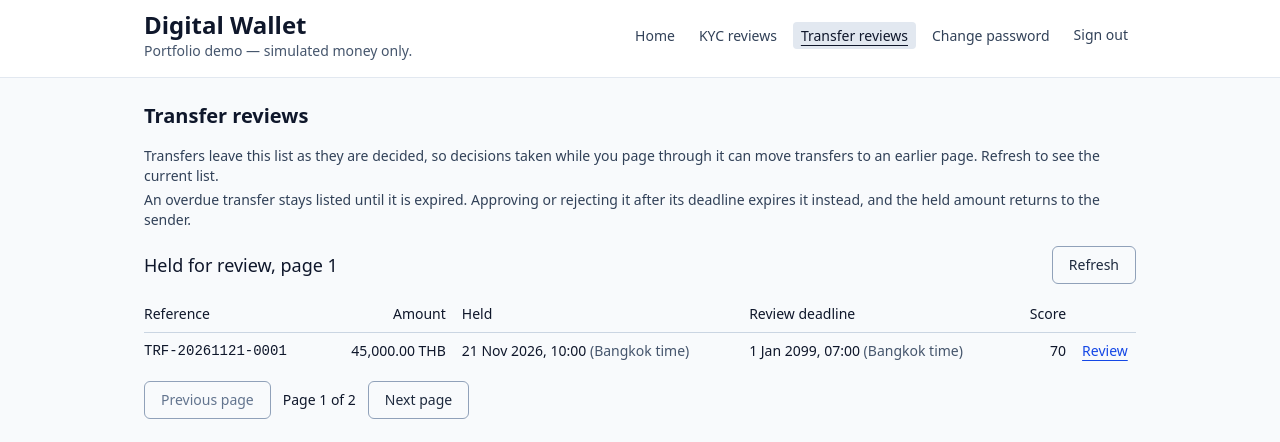
Test: Transfer review queue › pages through ?page= (1-based in the URL, 0-based to the API) and focuses the new page
Expected: the text "Page 1 of 2" is shown, [283,390,356,410]
Click the button "Next page": (418,400) [368,381,469,419]
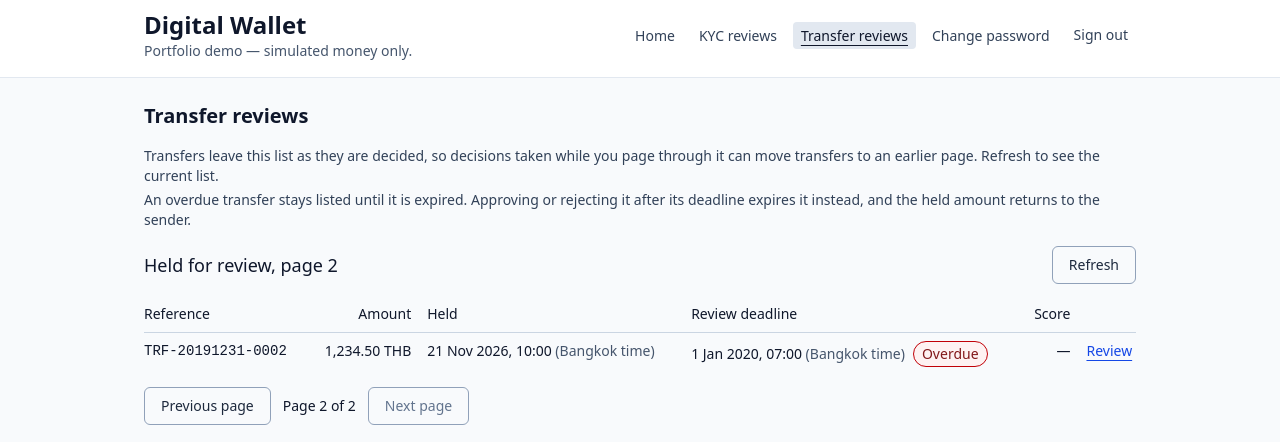
Now the text "TRF-20191231-0002" is shown, box [144,333,316,375]
Click the button "Previous page": (207,406) [144,387,271,425]
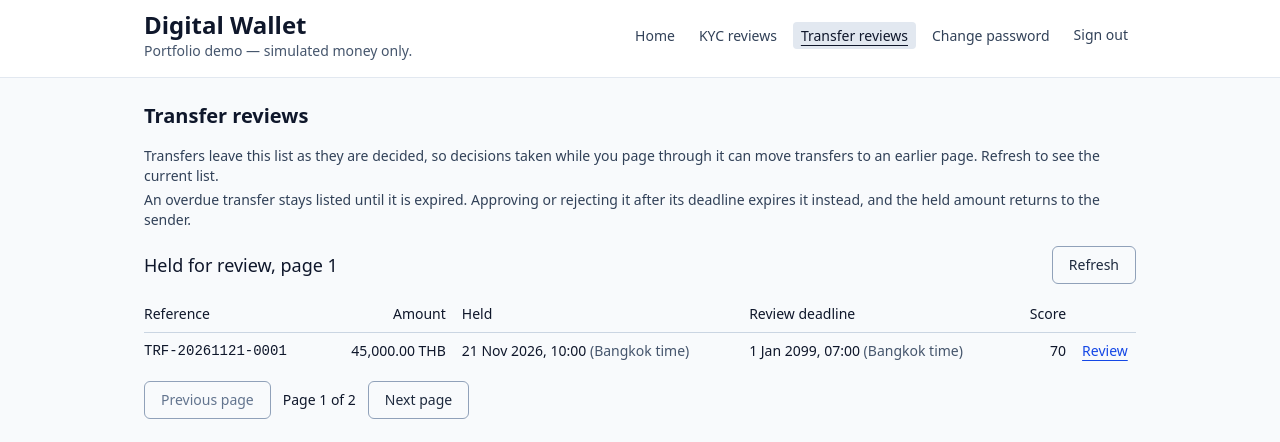
Now the text "TRF-20261121-0001" is shown, box [144,333,332,369]
